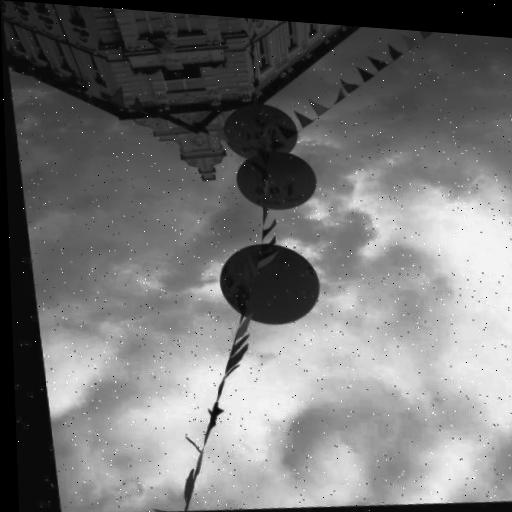balloon: (213, 246, 325, 340), (227, 155, 324, 223), (217, 106, 305, 165)
